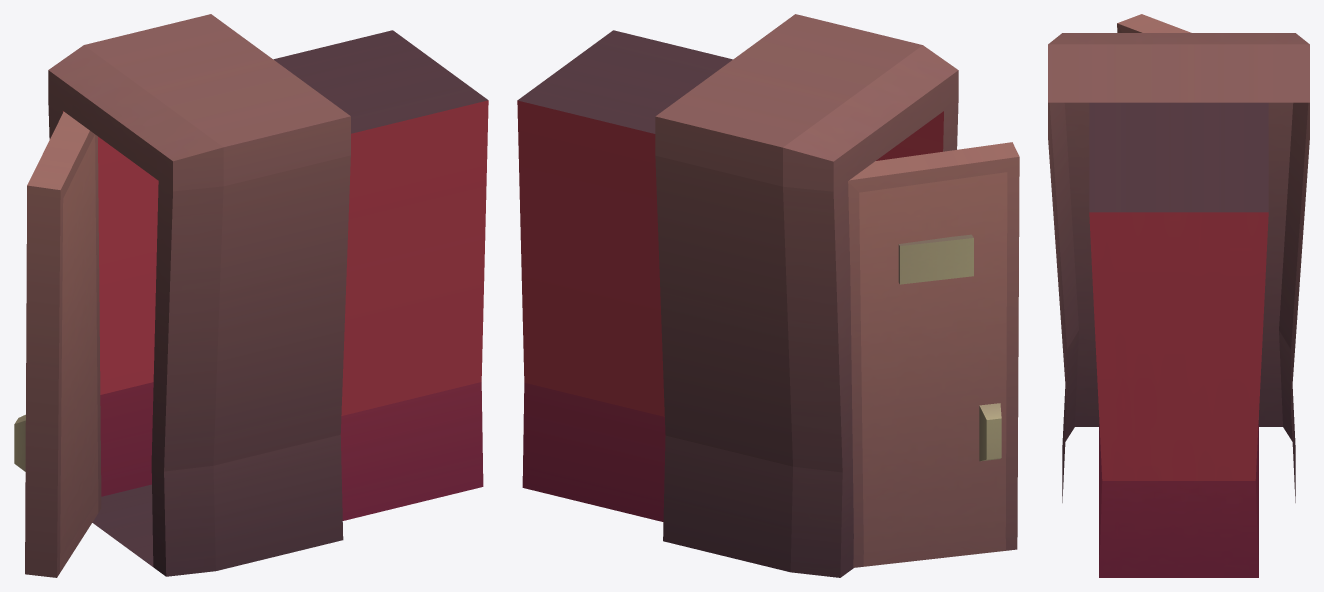
The model's file is SM_HotelDoorOpen.fbx.
The picture shows the model from 3 angles, left to right: view 1: azimuth 30°, elevation 25°; view 2: azimuth 150°, elevation 25°; view 3: azimuth 270°, elevation 25°; orthographic projection. The views are drawn at different scales.
Visible parts, largest first — view 1: SM_HotelDoorOpen; view 2: SM_HotelDoorOpen; view 3: SM_HotelDoorOpen.
Part boxes in pixels (x1,y1,x2,y2): SM_HotelDoorOpen: (14,14,488,577); SM_HotelDoorOpen: (517,14,1019,577); SM_HotelDoorOpen: (1048,14,1309,577).
Bounding box in the file's own units: 302 × 169 × 286.
